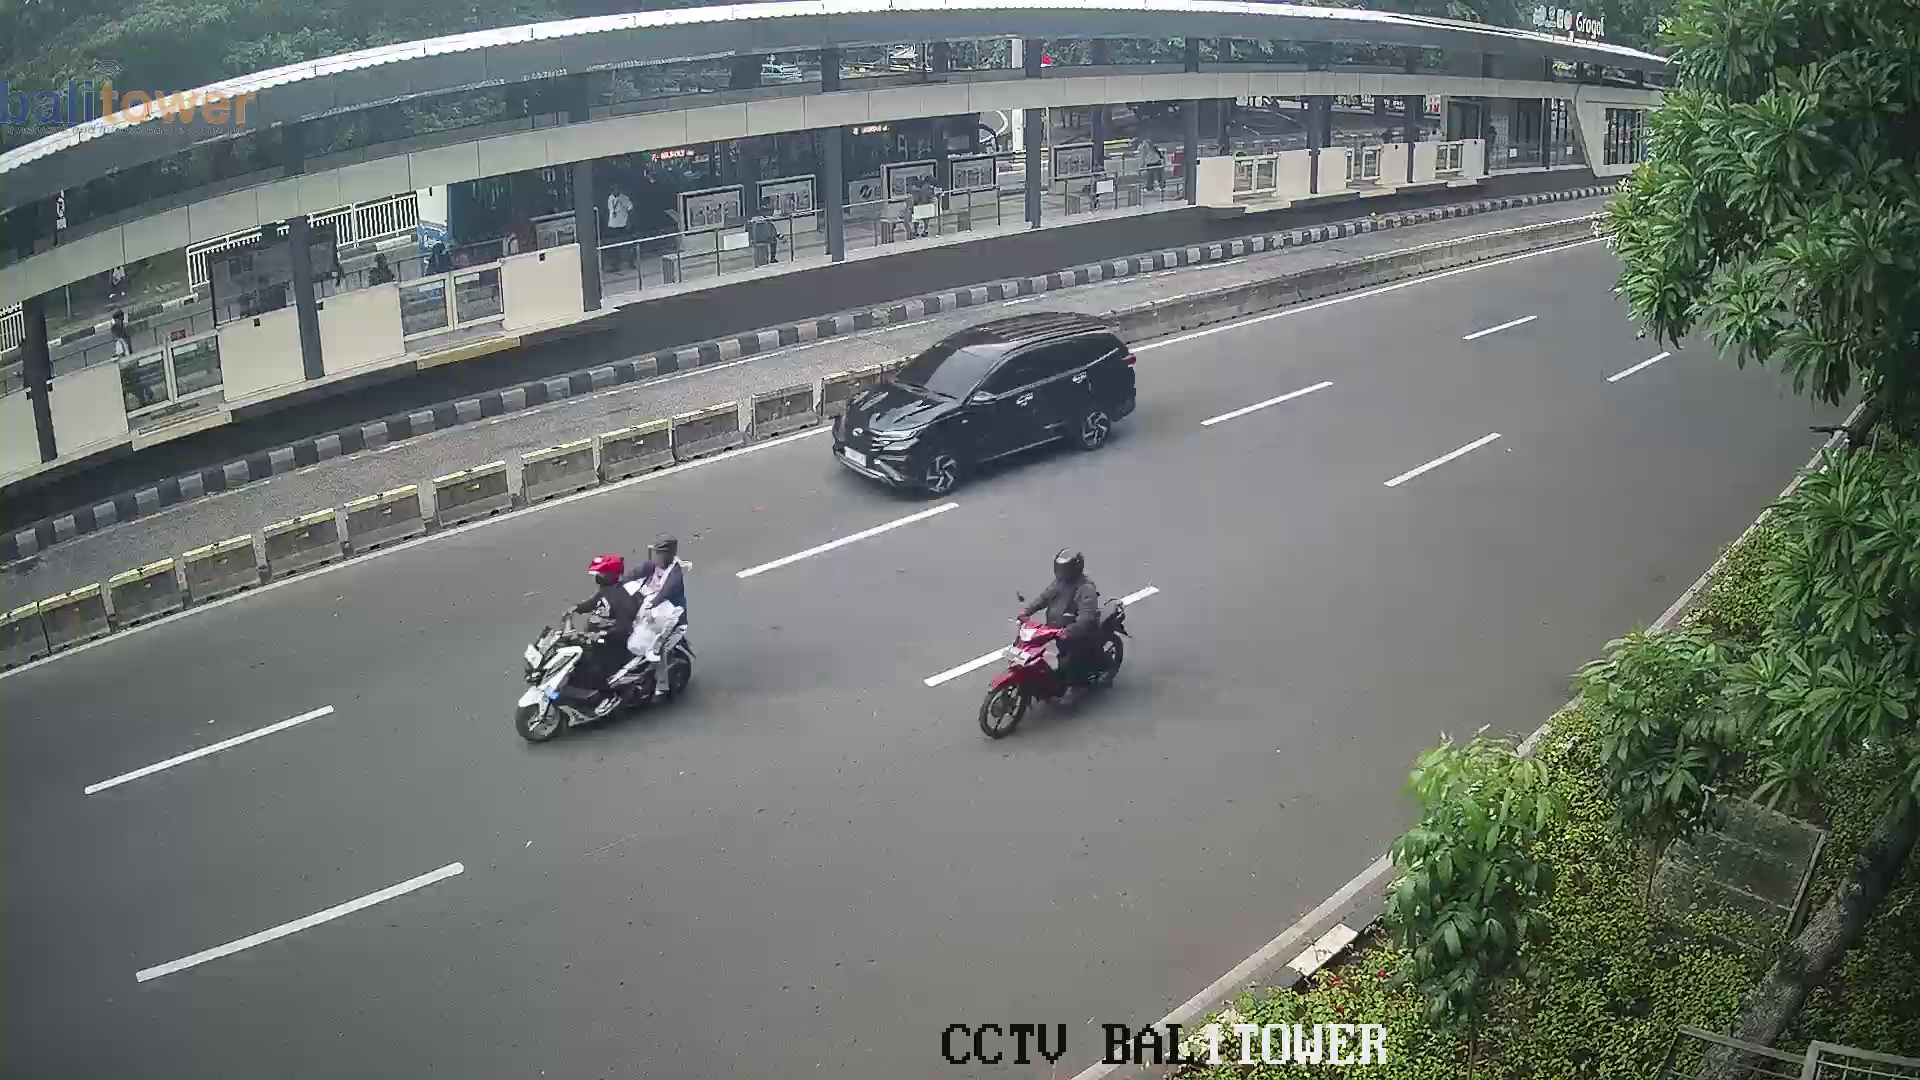full-face helmet: (1049, 545, 1086, 588)
half-face helmet: (584, 553, 629, 592), (645, 535, 684, 580)
